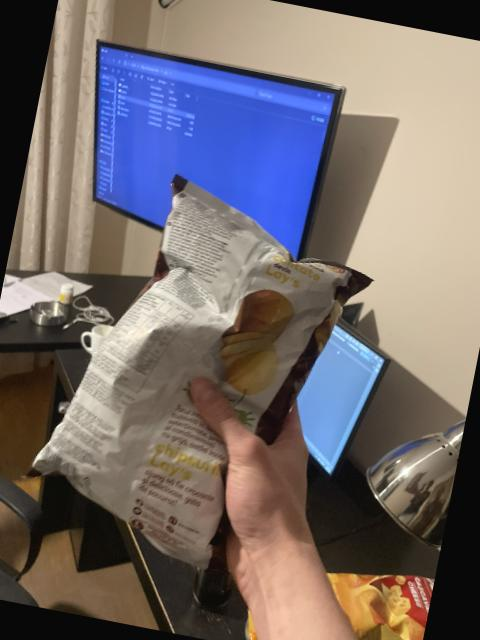Lays Beef Grilled Ribs 125g: (13, 156, 384, 588)
